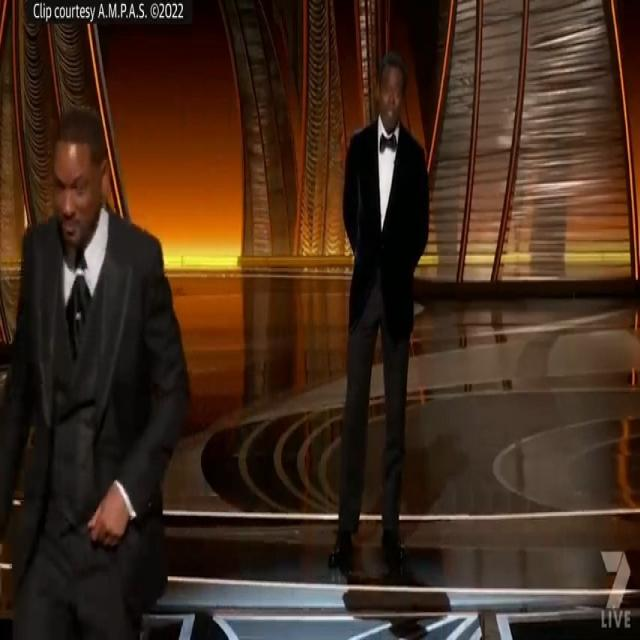non-fight: (0, 93, 190, 640), (325, 46, 433, 565)
